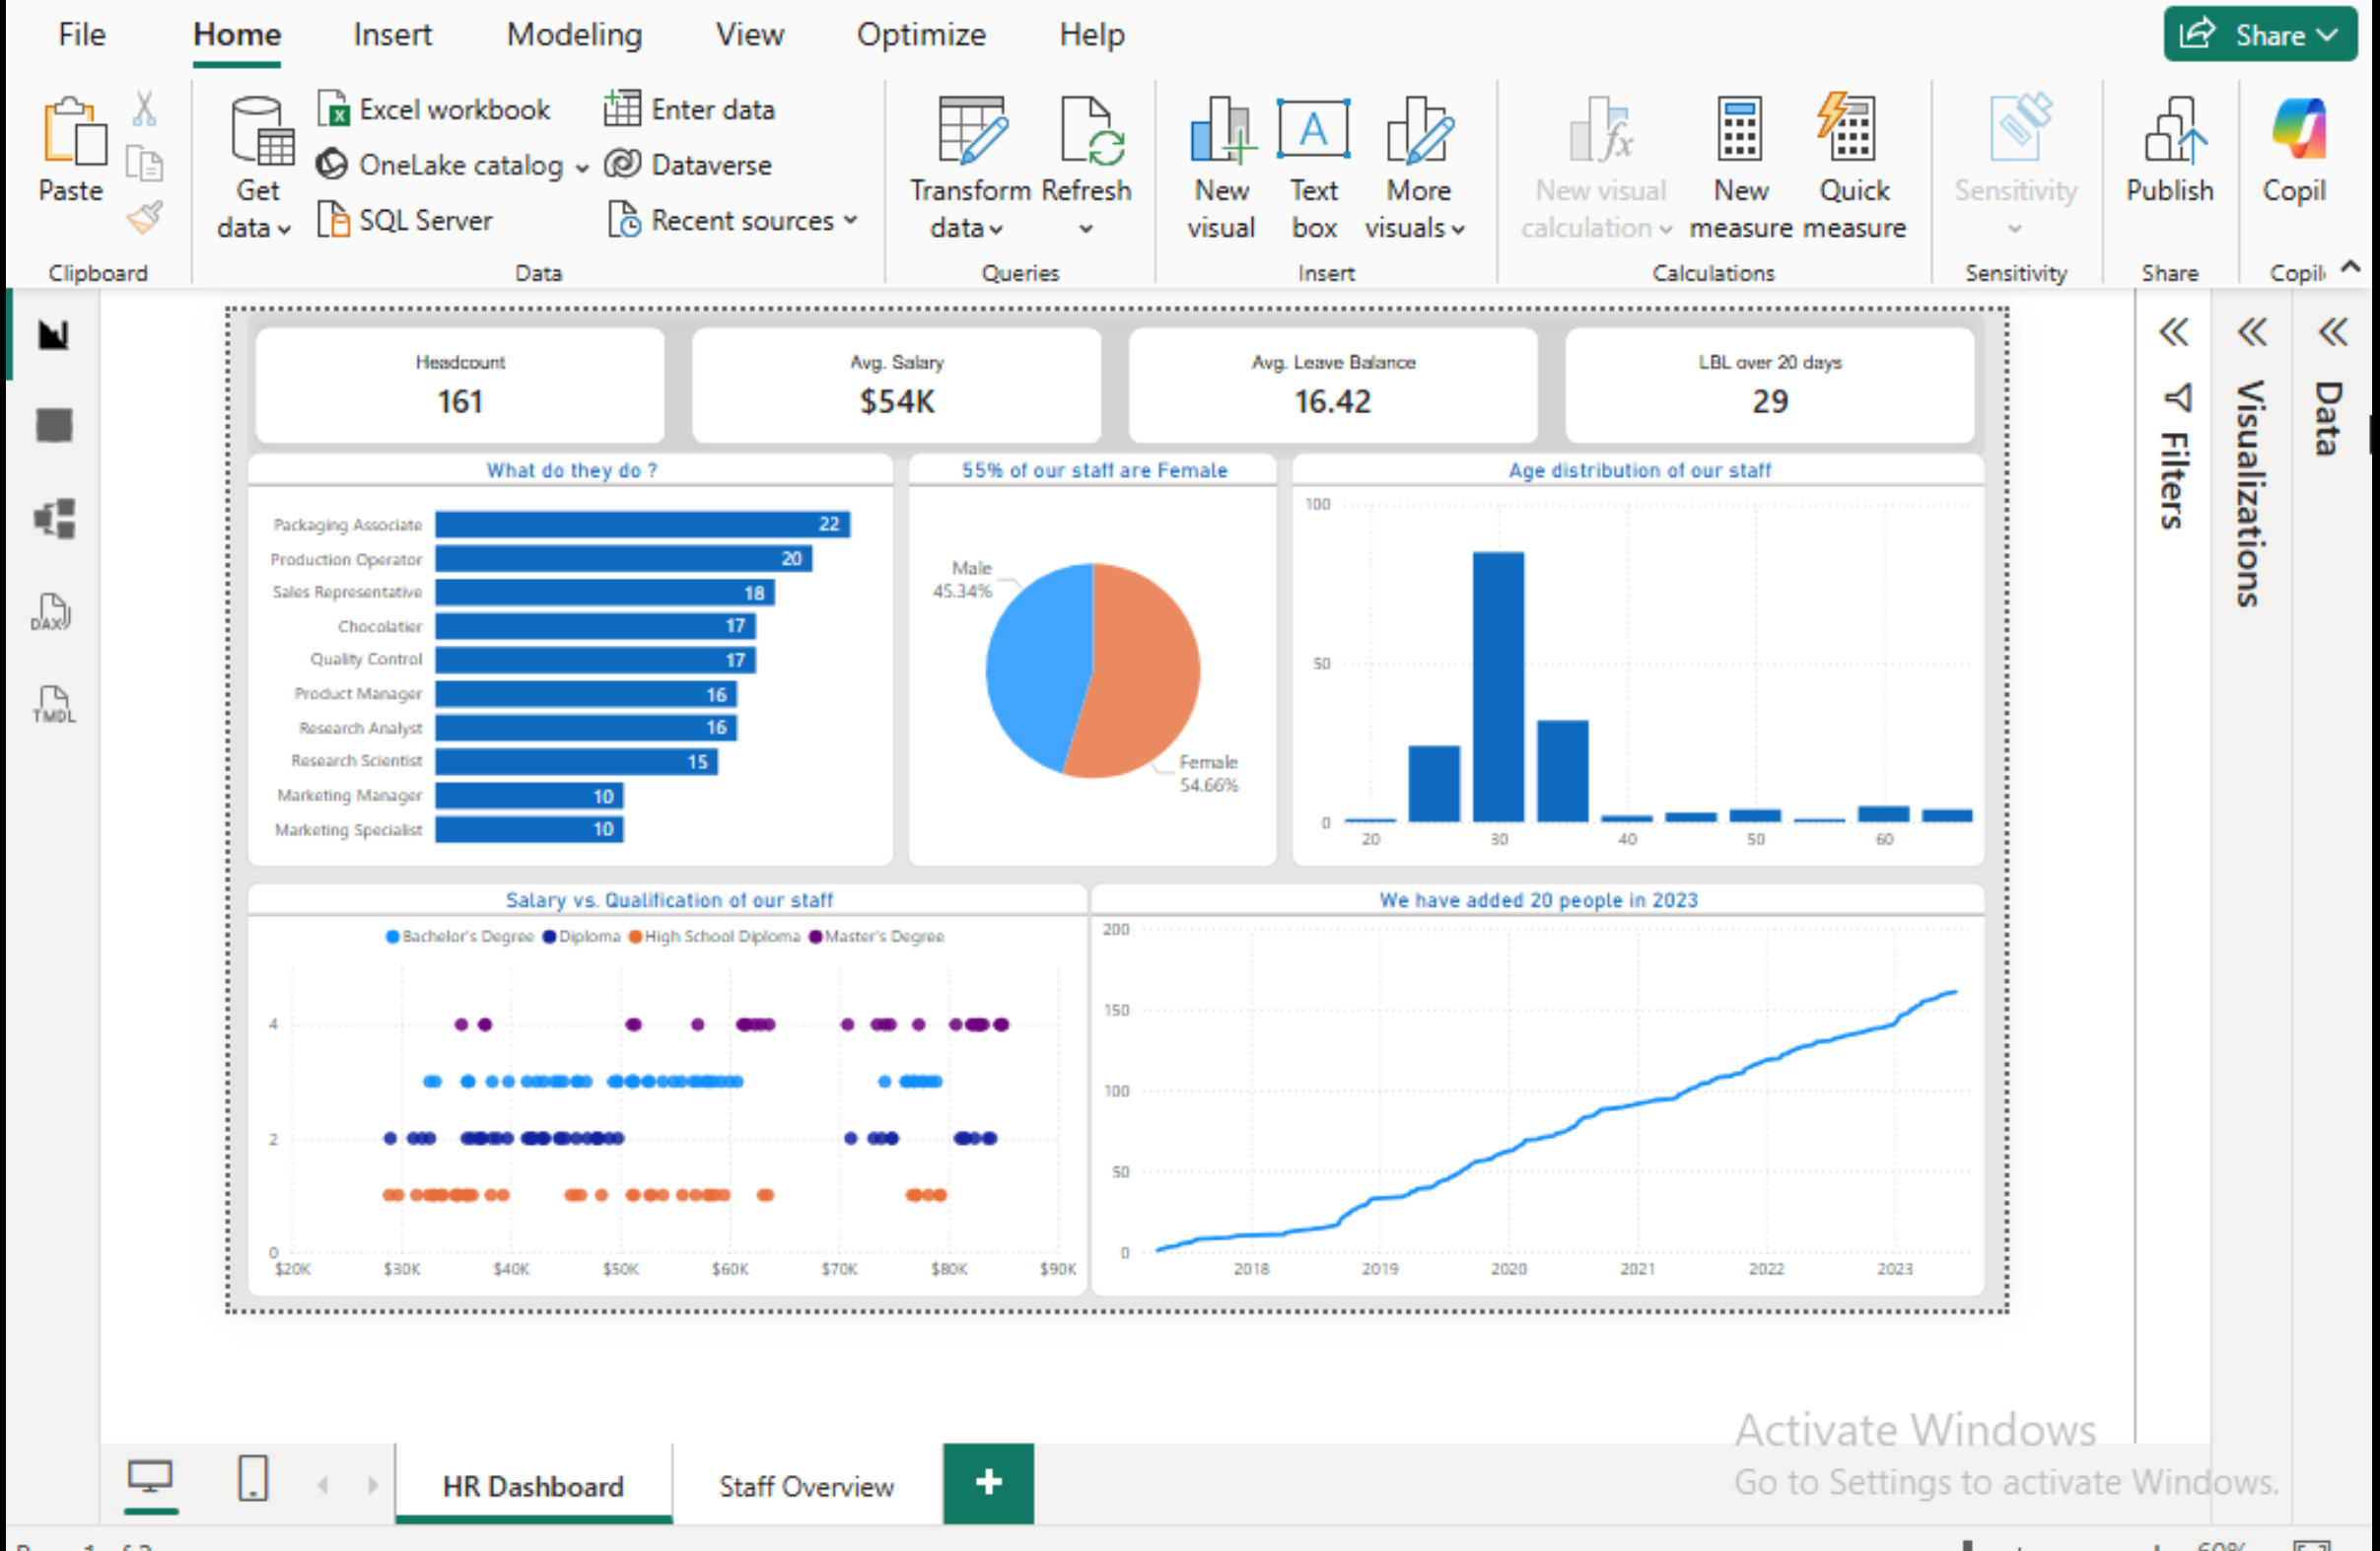

The dashboard page shown, as its layout file describes it:
{"tool":"powerbi","page":{"name":"HR Dashboard","canvas":[1280,720],"ordinal":0},"visuals":[{"type":"cardVisual","fields":{"Data":["_Measure.Headcount","_Measure.Avg. Salary","_Measure.Avg. Leave Balance","_Measure.LBL over 20 days"]},"box":[11.7,0,1255,108.3],"z":0},{"type":"clusteredBarChart","title":"What do they do ?","fields":{"Category":["data.Job Title"],"Y":["_Measure.Headcount"]},"box":[11.7,101.7,468.3,300],"z":1},{"type":"pieChart","title":"55% of our staff are Female","fields":{"Category":["data.Gender"],"Y":["_Measure.Headcount"]},"box":[488,101,268.3,300],"z":2},{"type":"clusteredColumnChart","title":"Age distribution of our staff","fields":{"Category":["data.Age (bins)"],"Y":["_Measure.Headcount"]},"box":[765,101.7,501.7,300],"z":3},{"type":"scatterChart","title":"Salary vs. Qualification of our staff","fields":{"X":["data.Salary"],"Y":["quel.Qualification ID "],"Series":["data.Education Qualification"]},"box":[11.7,411.7,608.3,300],"z":4},{"type":"lineChart","title":"We have added 20 people in 2023","fields":{"Y":["_Measure.Cumulative Headcount"],"Category":["data.Date of Join"]},"box":[620,411.7,646.7,300],"z":5}]}

Visuals, with their boxes on the page's 1280x720 design canvas (x1, y1, x2, y2). These are canvas units, not pixel positions in the 2380x1551 screenshot, which may show the page scaled, cropped or inside an application window:
cardVisual - _Measure.Headcount x _Measure.Avg. Salary: [12, 0, 1267, 108]
"What do they do ?" clusteredBarChart: [12, 102, 480, 402]
"55% of our staff are Female" pieChart: [488, 101, 756, 401]
"Age distribution of our staff" clusteredColumnChart: [765, 102, 1267, 402]
"Salary vs. Qualification of our staff" scatterChart: [12, 412, 620, 712]
"We have added 20 people in 2023" lineChart: [620, 412, 1267, 712]
